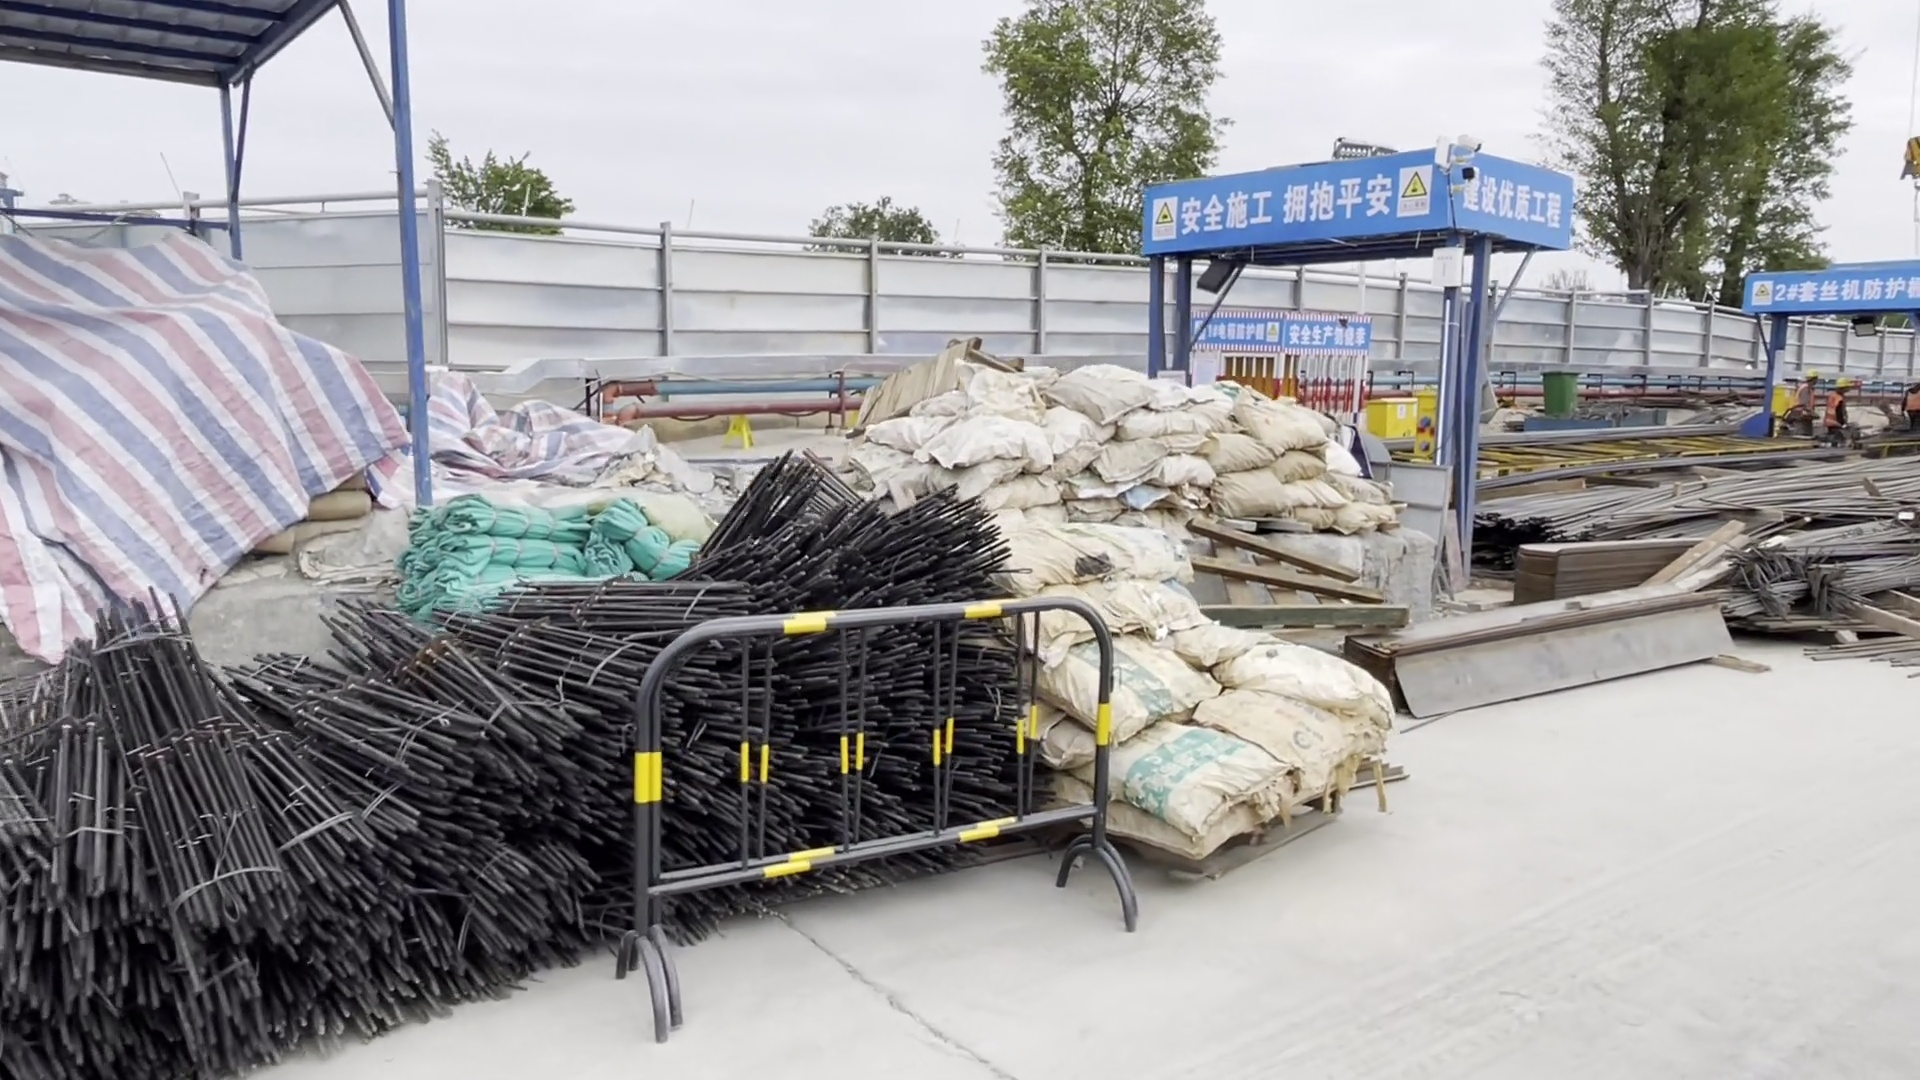fence: (290, 222, 1147, 355), (1485, 284, 1758, 376)
helmet: (1833, 375, 1850, 389), (1802, 366, 1818, 378)
hook: (1894, 132, 1920, 189)
person: (1825, 371, 1854, 453), (1791, 363, 1819, 449), (1901, 372, 1920, 432)
rebar: (1531, 461, 1906, 615)
slogan: (1131, 187, 1422, 224), (1745, 275, 1920, 312), (1463, 172, 1570, 228), (1291, 317, 1385, 347), (1197, 320, 1290, 349)
vest: (1825, 393, 1852, 431), (1793, 384, 1818, 417)
